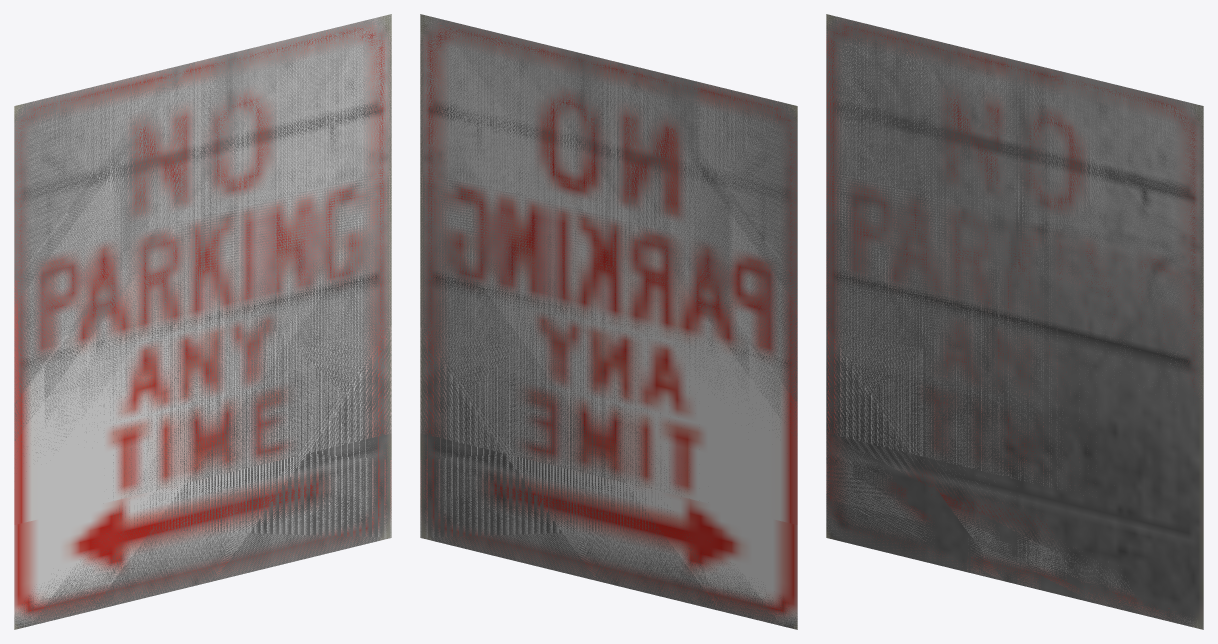
File: Sign-NoParkingB.fbx
The picture shows the model from 3 angles, left to right: view 1: azimuth 30°, elevation 25°; view 2: azimuth 150°, elevation 25°; view 3: azimuth 330°, elevation 25°; orthographic projection.
Parts seen in each view (by area): view 1: Sign-NoParkingB; view 2: Sign-NoParkingB; view 3: Sign-NoParkingB.
Part boxes in pixels (x1,y1,x2,y2): Sign-NoParkingB: [14, 14, 391, 629]; Sign-NoParkingB: [420, 14, 797, 629]; Sign-NoParkingB: [826, 14, 1203, 629].
Size of the model in its own units: 63.96 by 84.8 by 2.97e-06.
